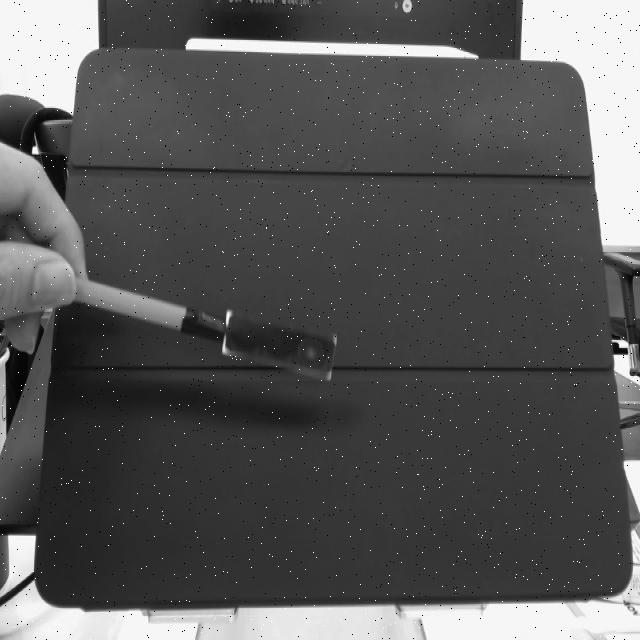traffic light: (227, 312, 338, 381)
